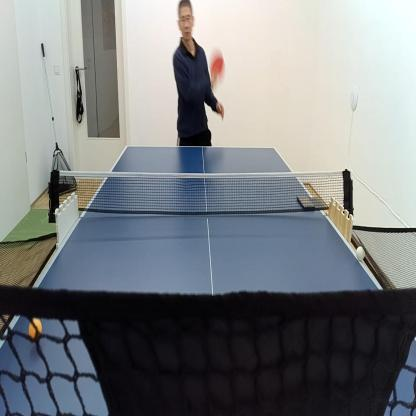Ball: (30, 319, 42, 339), (357, 247, 365, 260)
